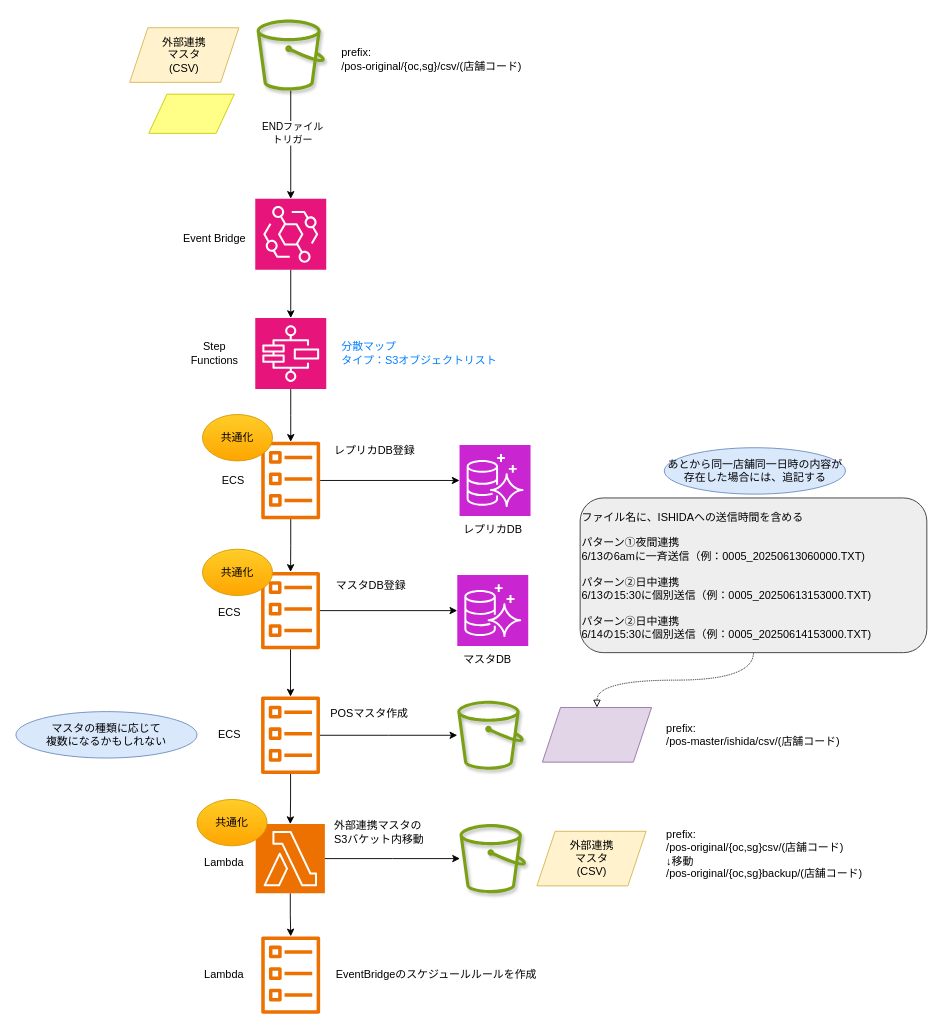
Image size: 943x1029. Some labels were removed from this diagram. The centre of each missing label's shape, as x and y in pixels:
"END ファイル" belongs at pixel 191 113.
"POS用マスタ (CSV)" belongs at pixel 596 734.
